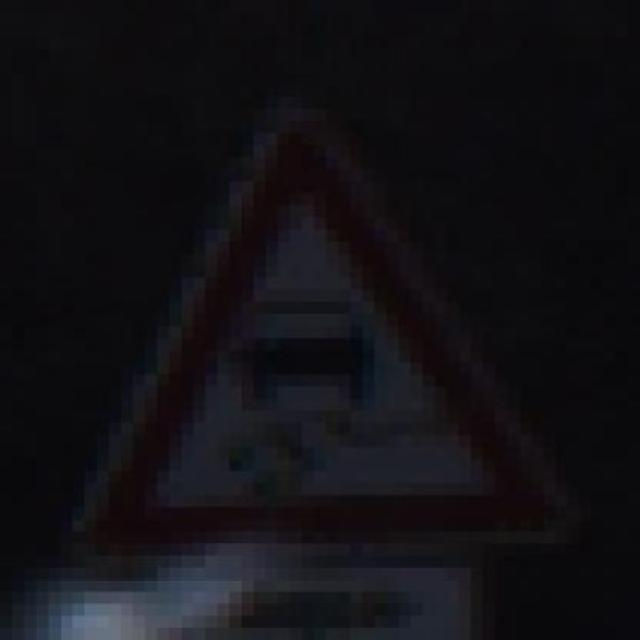Slippery Road Ahead: (60, 85, 592, 568)
